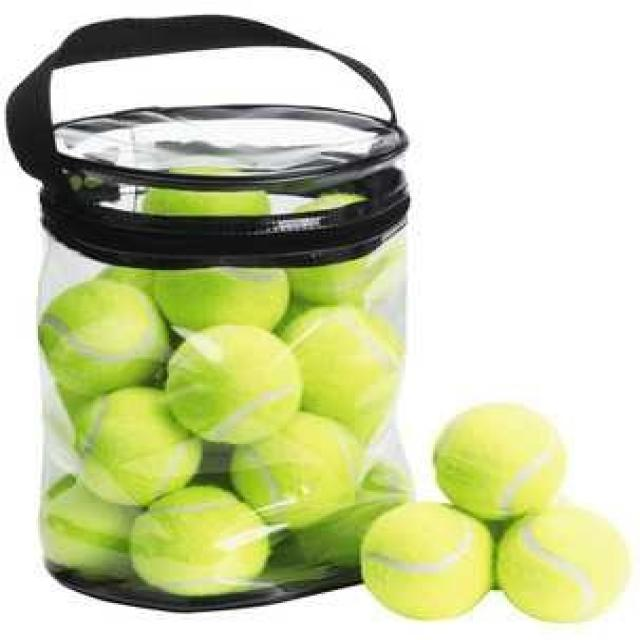Tennis_Ball: (227, 416, 371, 523), (70, 388, 199, 498), (146, 502, 278, 600), (366, 498, 481, 609), (505, 510, 623, 617), (148, 240, 282, 333), (51, 279, 158, 395), (172, 333, 303, 421), (300, 302, 394, 412), (442, 413, 544, 512), (42, 478, 136, 567)
